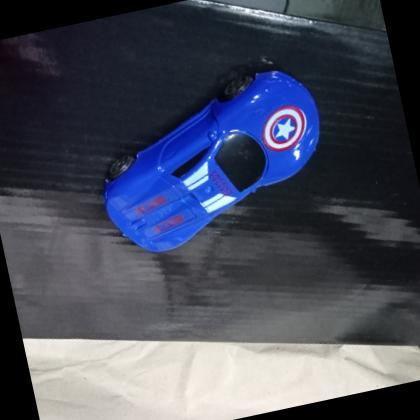Car: (74, 51, 348, 271)
